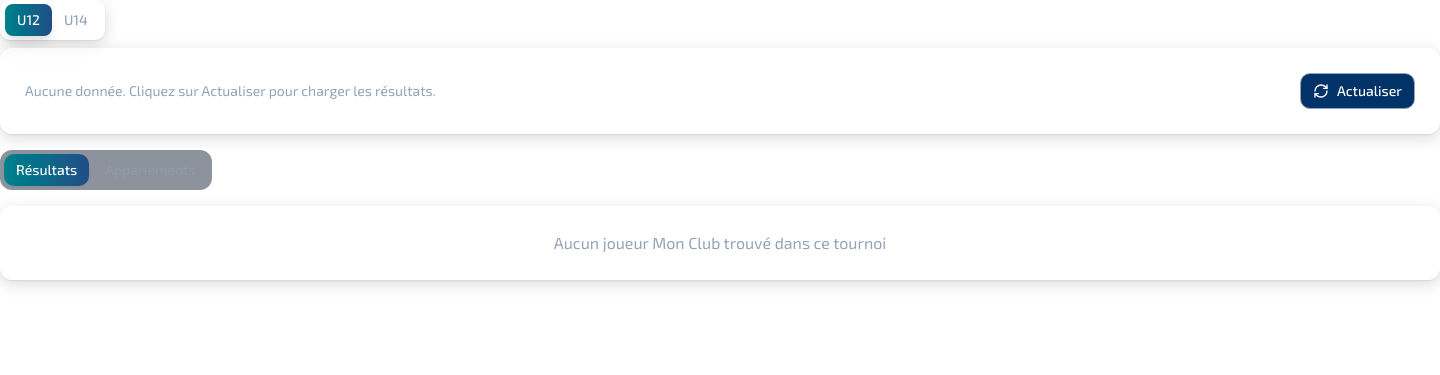
Test: TournamentTabs › Phase 2: Fetch Results (with clubName) › displays error message on fetch failure
Click the button "Actualiser" at (1357, 91), box [1300,73,1415,109]
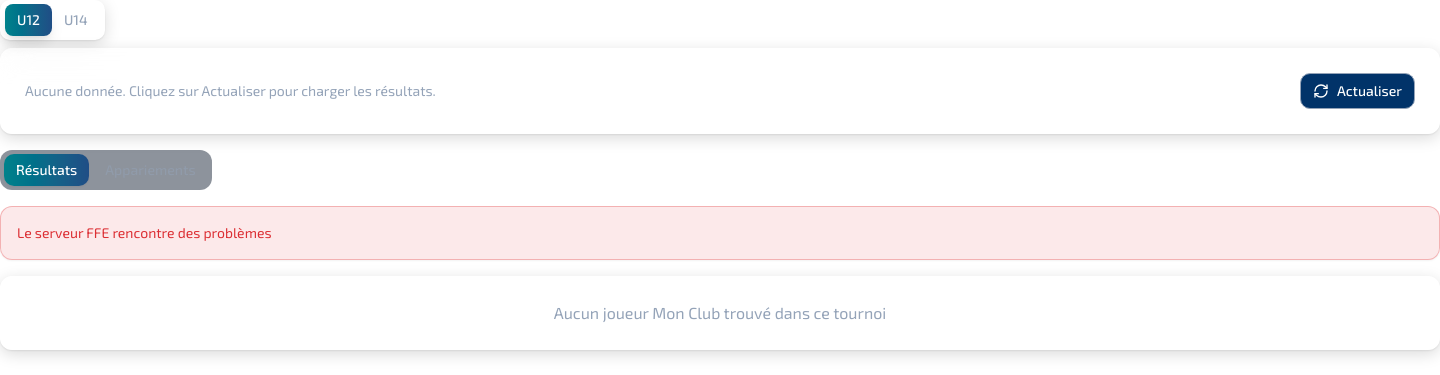
Expected: the text "Le serveur FFE rencontre des problèmes" is shown, [17,224,272,241]
